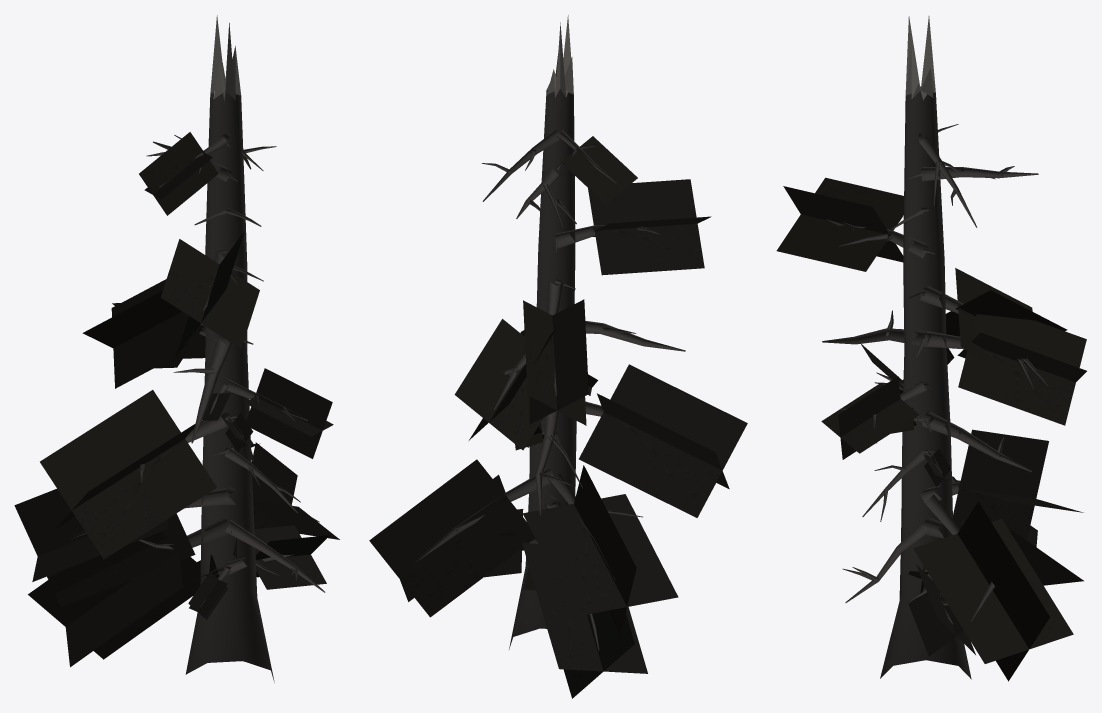
The model's file is Pino_Muerto_Partido.glb.
3 renders of one model, left to right at view 1: azimuth 30°, elevation 25°; view 2: azimuth 150°, elevation 25°; view 3: azimuth 270°, elevation 25°, orthographic. The views are drawn at different scales.
Parts seen in each view (by area): view 1: Pino_Muerto_Partido; view 2: Pino_Muerto_Partido; view 3: Pino_Muerto_Partido.
Boxes of the visible parts, x1,y1,x2,y2 form: Pino_Muerto_Partido: (14,15,339,682); Pino_Muerto_Partido: (369,15,747,698); Pino_Muerto_Partido: (776,16,1086,681).
Size of the model in its own units: 5.35 by 10.57 by 4.52.
Materials: 3 (1 with a texture image).
